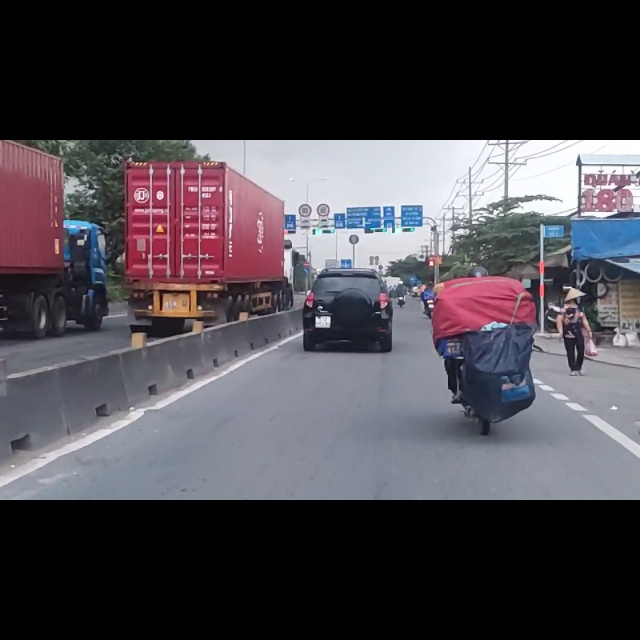bien_cam: (316, 111, 331, 139), (299, 114, 312, 137), (303, 216, 309, 226), (303, 228, 309, 238)
